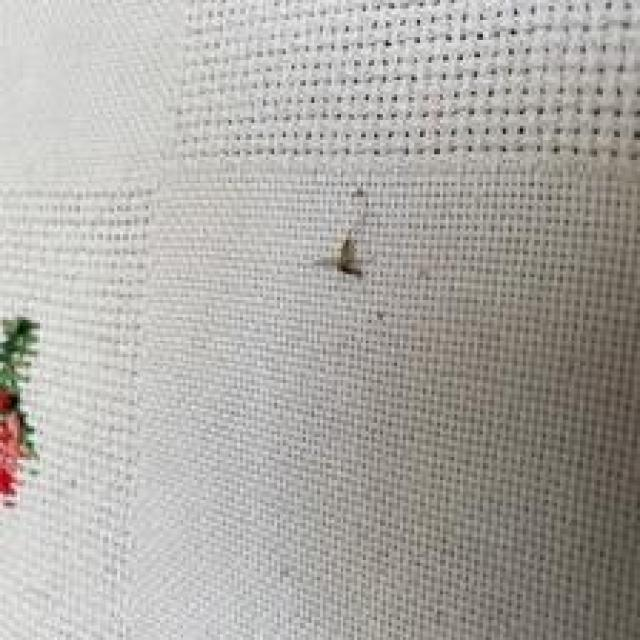Culex: (0, 314, 40, 509)
